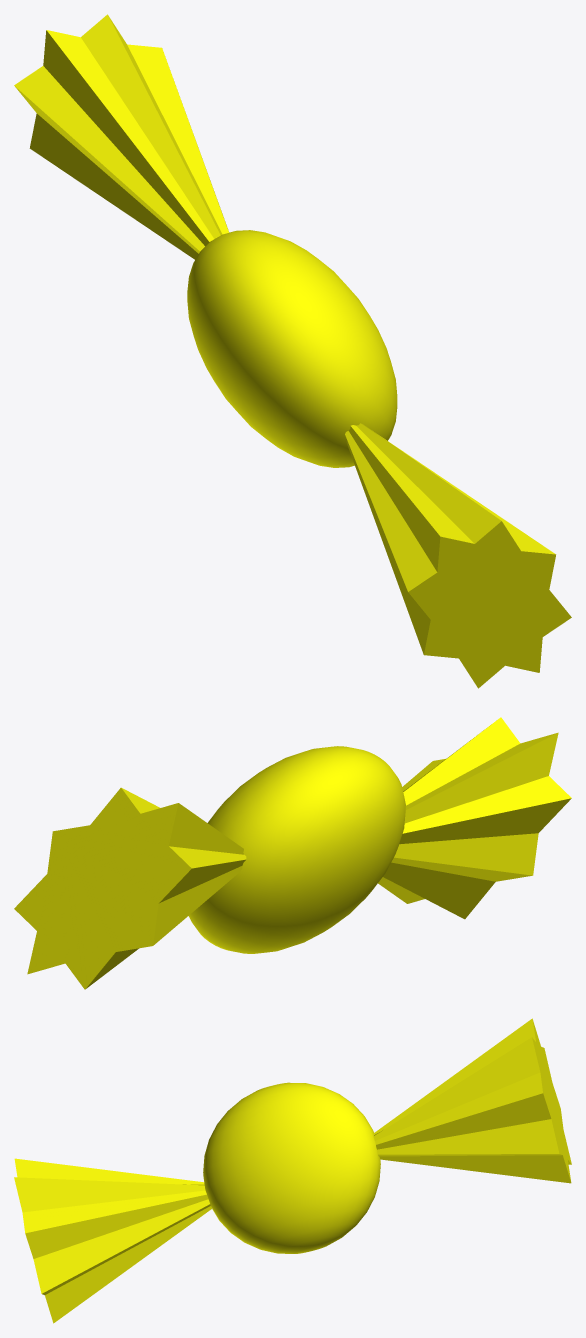
Rendered from kuukihou_ribbon.fbx.
3 renders of one model, top to bottom at view 1: azimuth 30°, elevation 25°; view 2: azimuth 150°, elevation 25°; view 3: azimuth 270°, elevation 25°, orthographic. The views are drawn at different scales.
Visible parts, largest first — view 1: 球.002; view 2: 球.002; view 3: 球.002.
Part boxes in pixels (<box>): 球.002: <box>14,14,571,688</box>; 球.002: <box>14,717,571,989</box>; 球.002: <box>14,1018,571,1323</box>.
Bounding box in the file's own units: 58.32 × 14.02 × 30.71.
